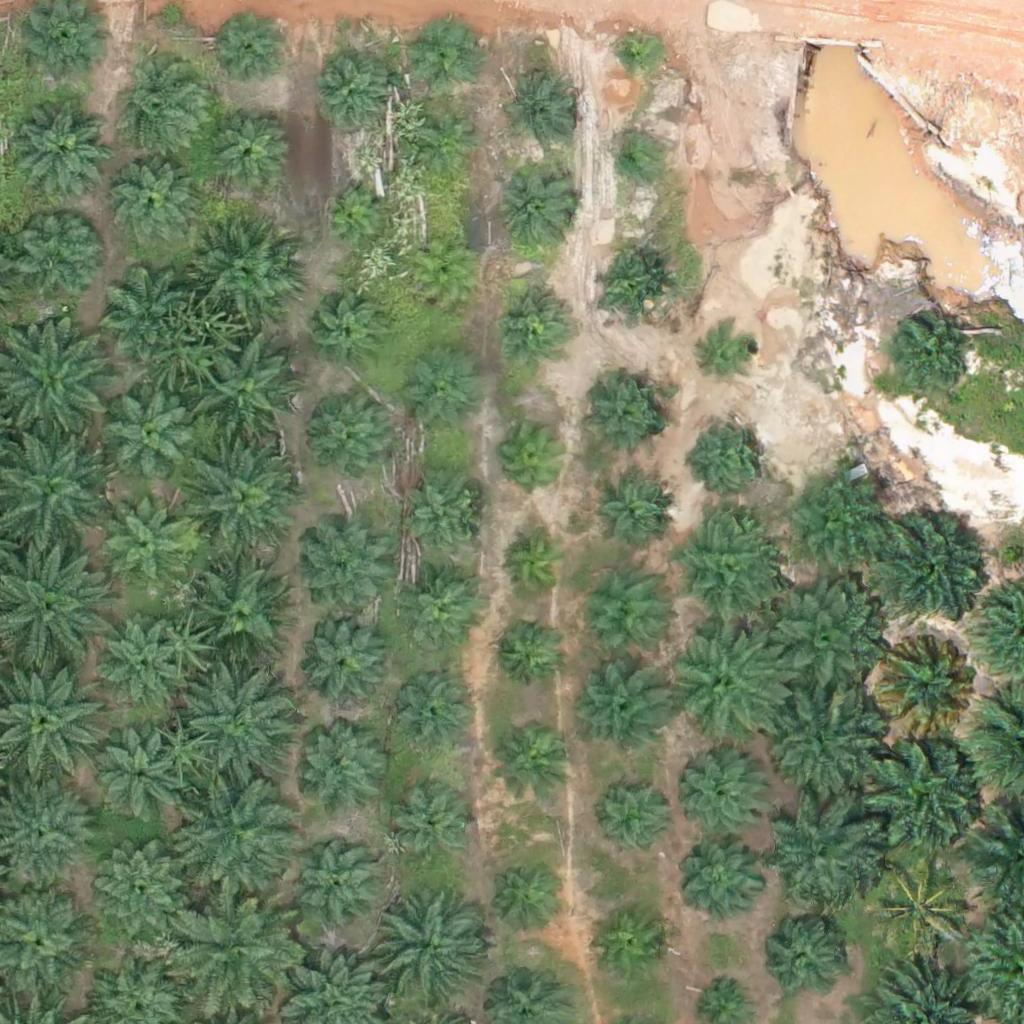Kelapa_Sawit: (664, 615, 789, 741), (368, 888, 493, 1014), (867, 500, 992, 626), (861, 734, 986, 860), (764, 681, 889, 807), (761, 787, 886, 913), (756, 580, 881, 705), (862, 848, 975, 962), (189, 447, 302, 560), (174, 781, 287, 894), (178, 901, 291, 1014), (869, 629, 982, 742), (181, 666, 293, 780), (781, 463, 893, 577), (671, 515, 783, 628), (678, 740, 778, 841), (198, 346, 298, 447), (189, 558, 289, 659), (570, 571, 670, 671), (192, 223, 292, 323), (85, 837, 185, 937), (114, 59, 214, 159), (9, 92, 109, 192), (584, 376, 672, 464), (676, 834, 764, 922), (396, 569, 484, 657), (393, 786, 481, 874), (302, 526, 390, 614), (299, 615, 387, 703), (296, 843, 384, 931), (99, 738, 187, 826), (109, 393, 197, 481), (15, 209, 103, 297), (308, 395, 395, 484), (112, 159, 199, 248), (588, 473, 675, 561), (886, 315, 973, 403), (579, 661, 666, 749), (395, 477, 482, 565), (387, 671, 474, 759), (293, 726, 380, 814), (96, 614, 183, 702), (101, 499, 188, 587), (100, 266, 187, 354), (311, 48, 398, 136), (206, 105, 293, 193), (756, 914, 843, 1002), (501, 70, 576, 146), (211, 15, 286, 91), (592, 251, 667, 327), (495, 726, 570, 802), (490, 615, 565, 691), (496, 527, 571, 603), (694, 414, 769, 490), (501, 167, 576, 243), (309, 294, 384, 369), (406, 358, 481, 433), (493, 285, 568, 360), (499, 418, 574, 493), (492, 862, 567, 937), (592, 902, 667, 977), (601, 782, 676, 857), (414, 20, 477, 83), (410, 242, 473, 305), (420, 116, 482, 179), (699, 323, 761, 386), (319, 182, 381, 244), (611, 31, 661, 81), (607, 138, 657, 188)
